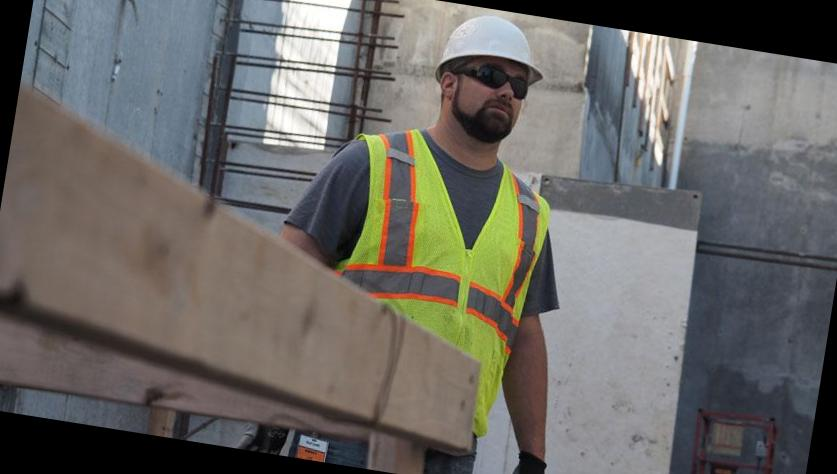Vest: (327, 116, 553, 446)
